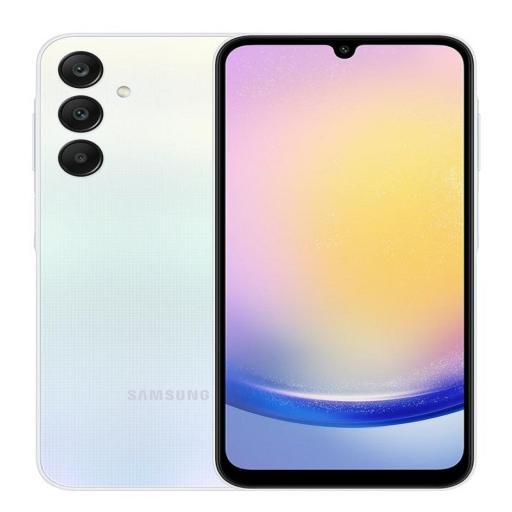phone: (208, 36, 483, 494)
